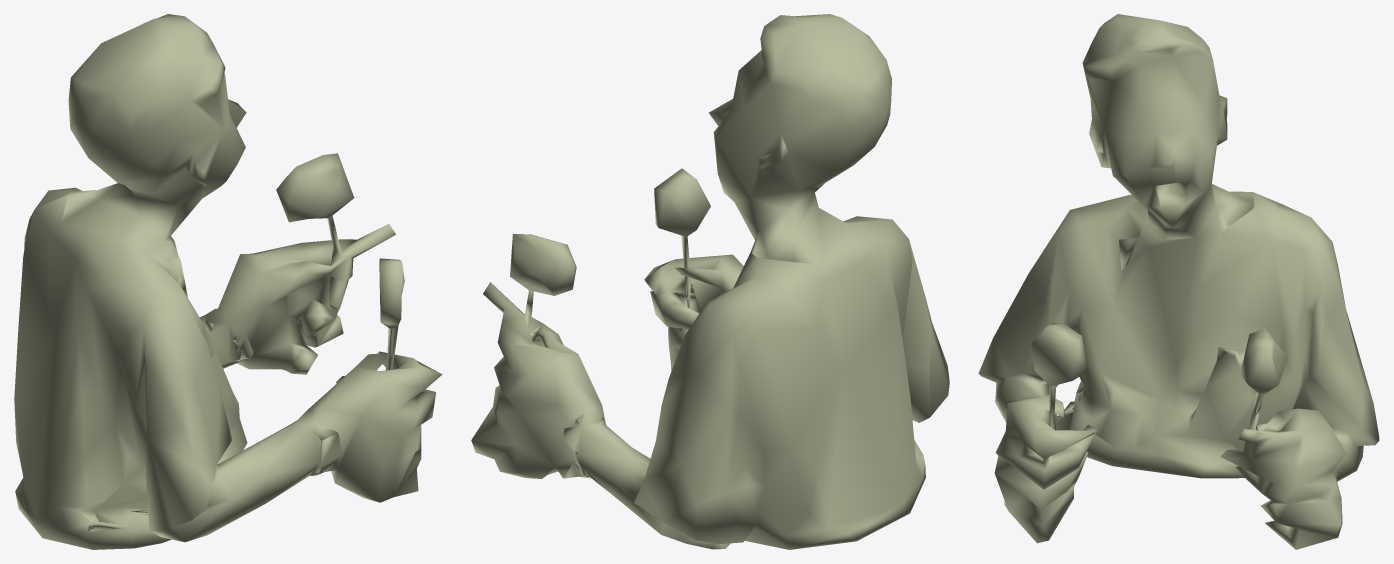
File: statue_of_myself_lod3.obj
The picture shows the model from 3 angles, left to right: view 1: azimuth 30°, elevation 25°; view 2: azimuth 150°, elevation 25°; view 3: azimuth 270°, elevation 25°; orthographic projection. The views are drawn at different scales.
Visible parts, largest first — view 1: obj_0; view 2: obj_0; view 3: obj_0.
Part boxes in pixels (<box>): obj_0: <box>14,14,442,549</box>; obj_0: <box>471,14,949,549</box>; obj_0: <box>978,14,1379,549</box>.
Bounding box in the file's own units: 14.68 × 17.39 × 13.89.
